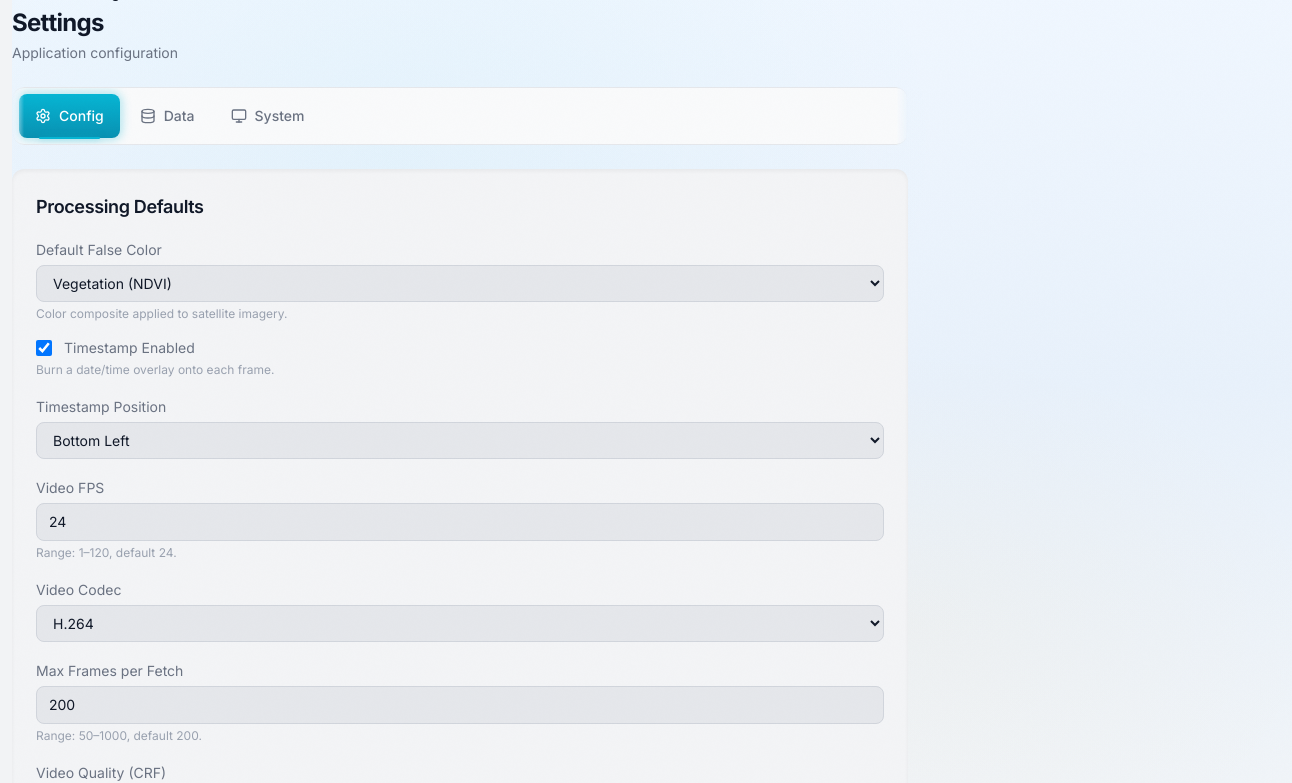
Settings Data tab interactivity (JTN-465) › toggles the Processing accordion on click
This screenshot has width=1292, height=783.
Click the tab with aria-label "Data tab" at {"x": 167, "y": 116}, box [124, 94, 210, 138]
(page scrolled)
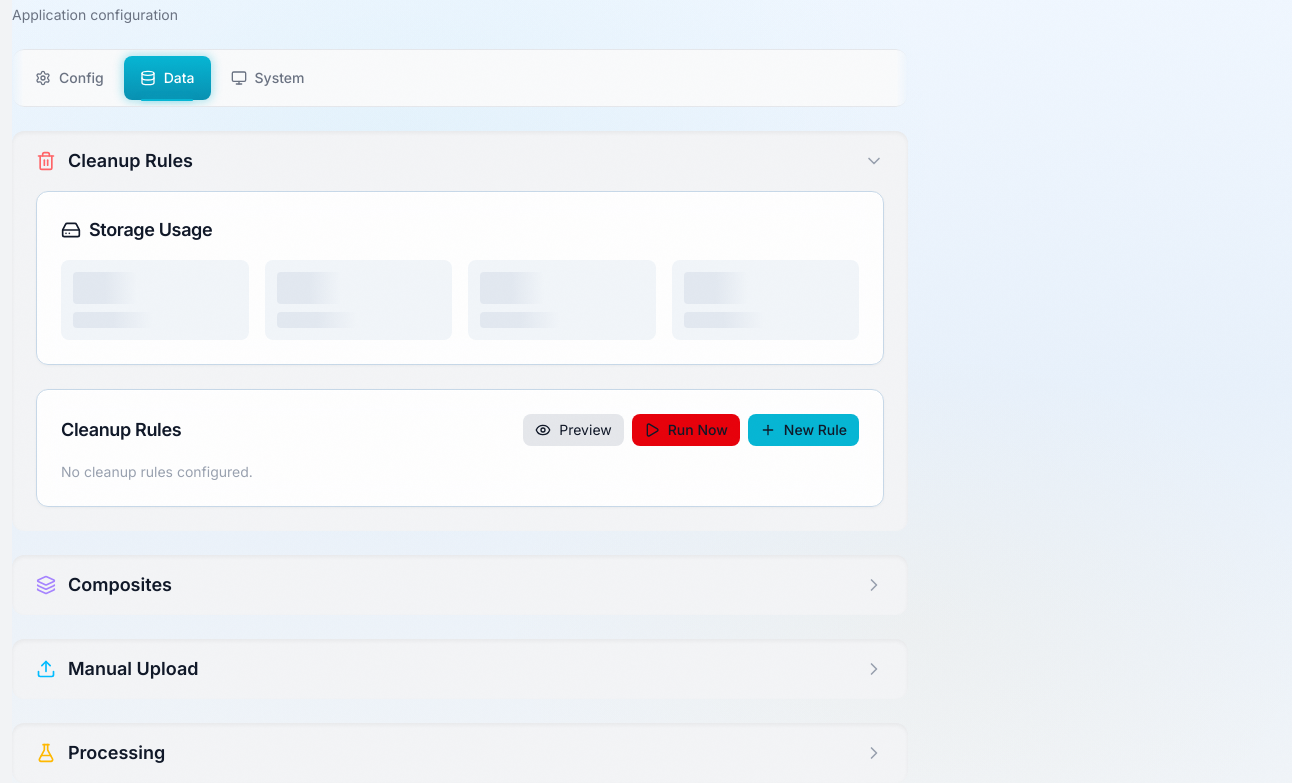
Click the button "Processing" at {"x": 117, "y": 752}, box [12, 723, 908, 782]
(page scrolled)
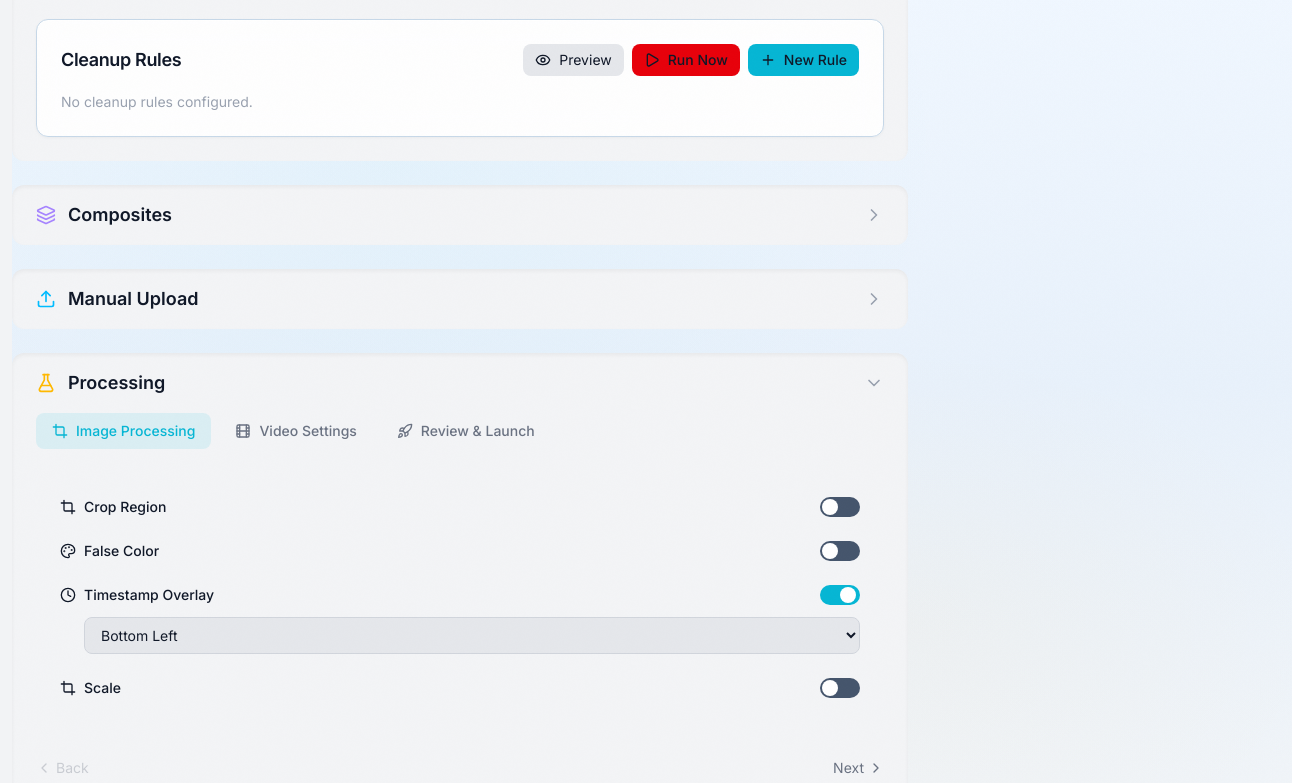
Result: the button "Processing" is expanded at [12, 353, 908, 413]
